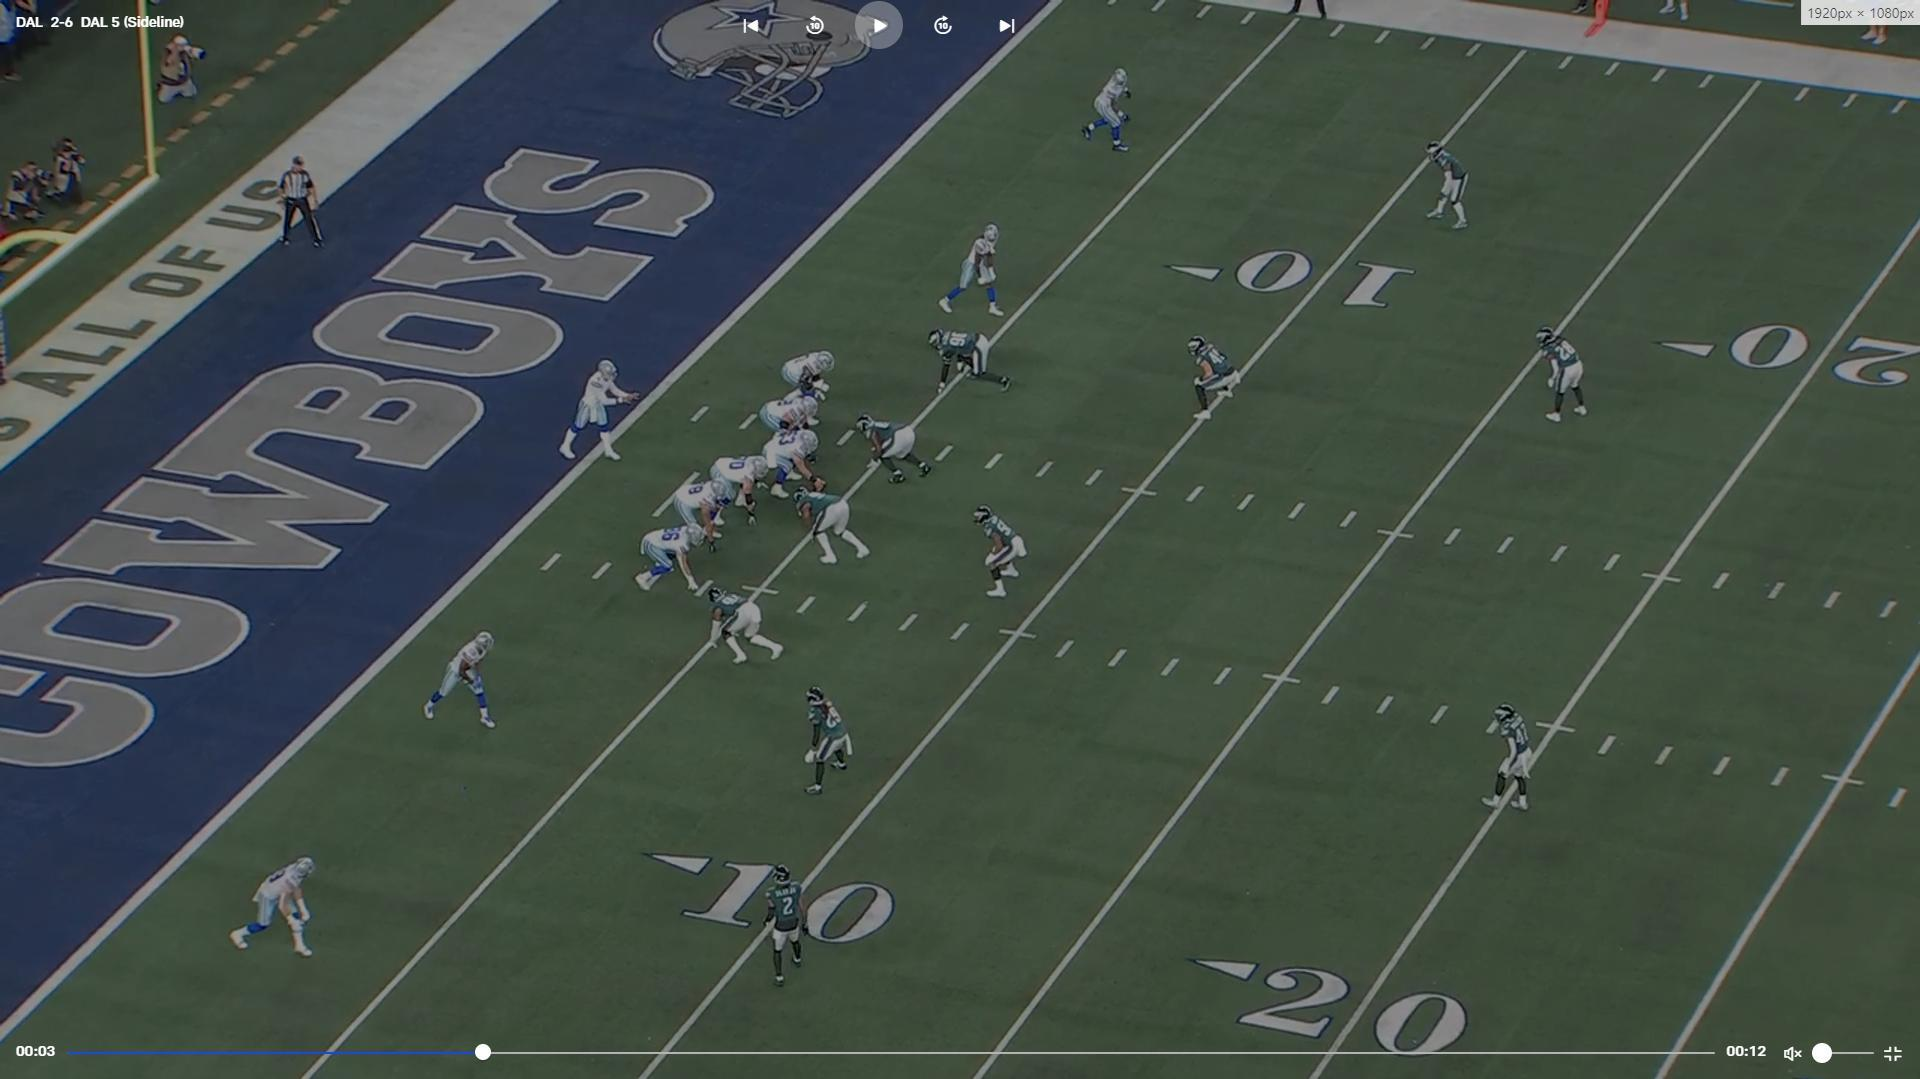defense: (703, 578, 789, 667), (760, 860, 816, 992), (791, 483, 874, 566), (1534, 320, 1596, 426), (1484, 700, 1539, 818), (802, 682, 856, 801), (856, 413, 939, 488), (927, 323, 1014, 393), (972, 502, 1027, 601), (1427, 138, 1479, 237), (1185, 330, 1238, 424)
oline: (766, 429, 833, 505), (703, 448, 768, 526), (755, 387, 827, 449), (673, 476, 732, 550), (783, 343, 844, 397)
qb: (562, 361, 632, 470)
ref: (281, 150, 331, 249), (1281, 0, 1338, 24)
skill: (232, 850, 327, 961), (419, 626, 502, 733), (936, 219, 1009, 320), (630, 521, 706, 595), (1079, 66, 1136, 158)
